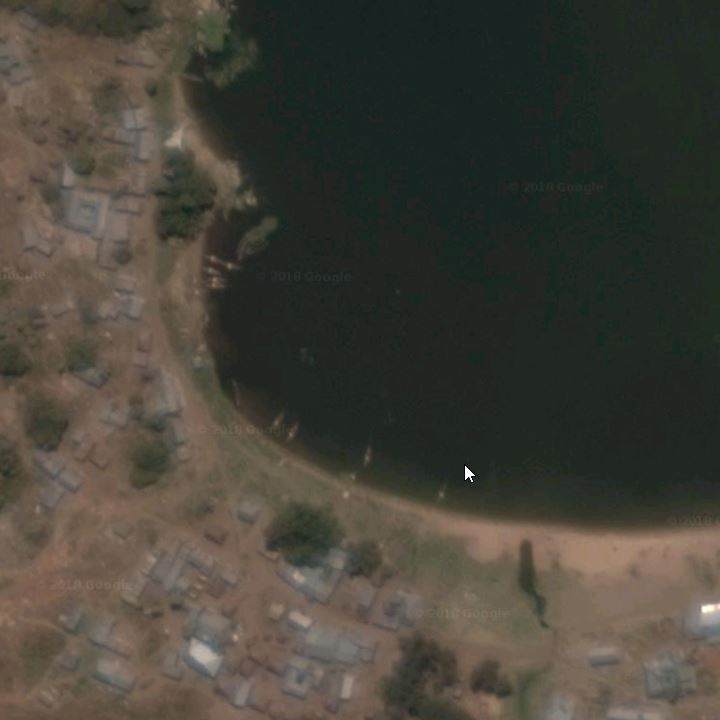boat: (432, 473, 455, 511), (226, 371, 245, 415), (283, 418, 305, 454), (360, 435, 376, 476), (266, 403, 282, 438), (174, 67, 203, 86), (200, 264, 225, 277), (224, 260, 247, 274), (202, 283, 229, 294), (204, 275, 230, 286), (205, 253, 225, 266)
